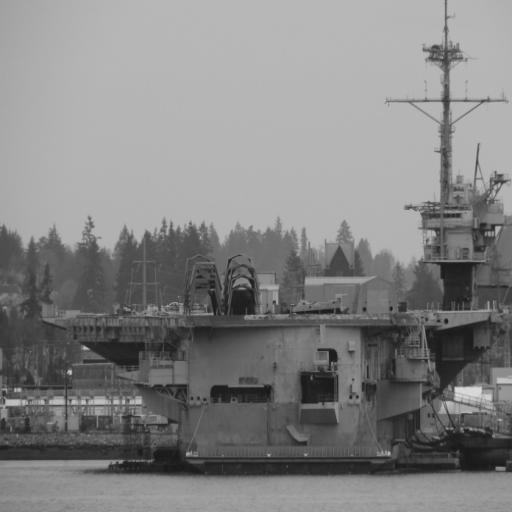Portanaves: (40, 1, 512, 470)
